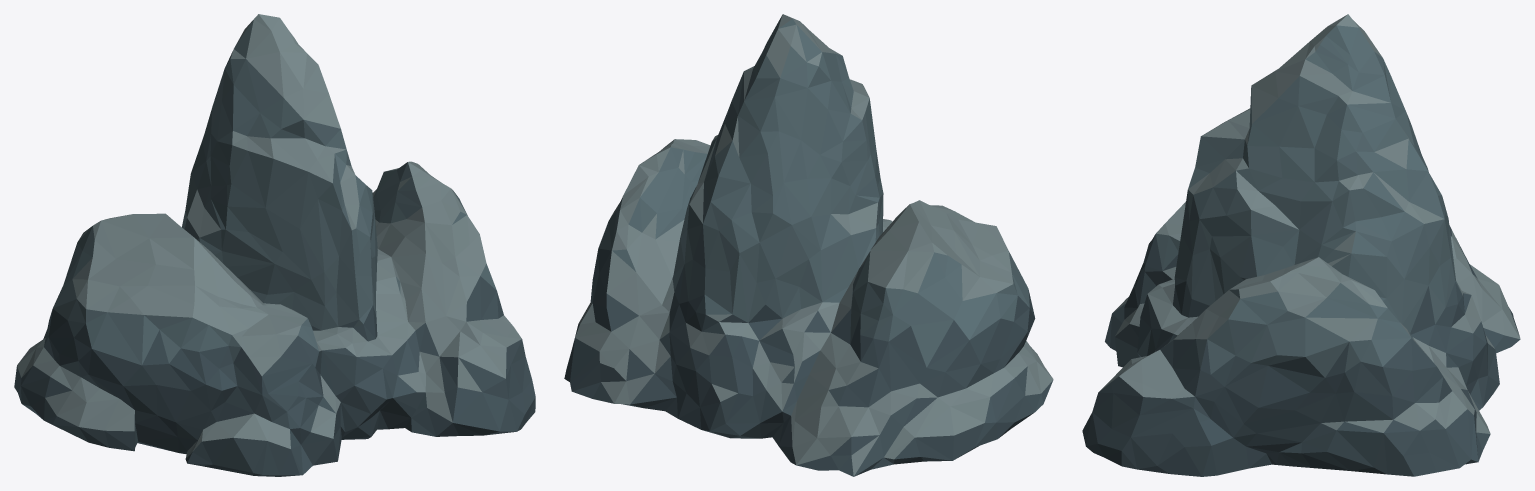
File: rock_2.glb
3 renders of one model, left to right at view 1: azimuth 30°, elevation 25°; view 2: azimuth 150°, elevation 25°; view 3: azimuth 270°, elevation 25°, orthographic. The views are drawn at different scales.
Parts seen in each view (by area): view 1: rock_2; view 2: rock_2; view 3: rock_2.
Boxes of the visible parts, left/top/right/bottom form: rock_2: left=14, top=14, right=535, bottom=476; rock_2: left=564, top=14, right=1053, bottom=476; rock_2: left=1082, top=14, right=1520, bottom=476.
Size of the model in its own units: 1.8 by 1.5 by 1.6.
